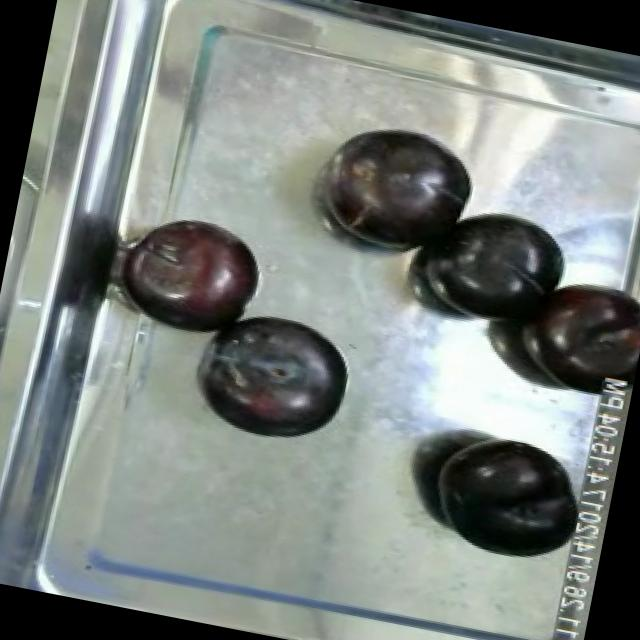Fruit: (413, 418, 595, 574), (308, 116, 488, 266), (194, 302, 360, 454), (417, 196, 581, 342), (115, 207, 274, 347), (516, 268, 640, 385)
